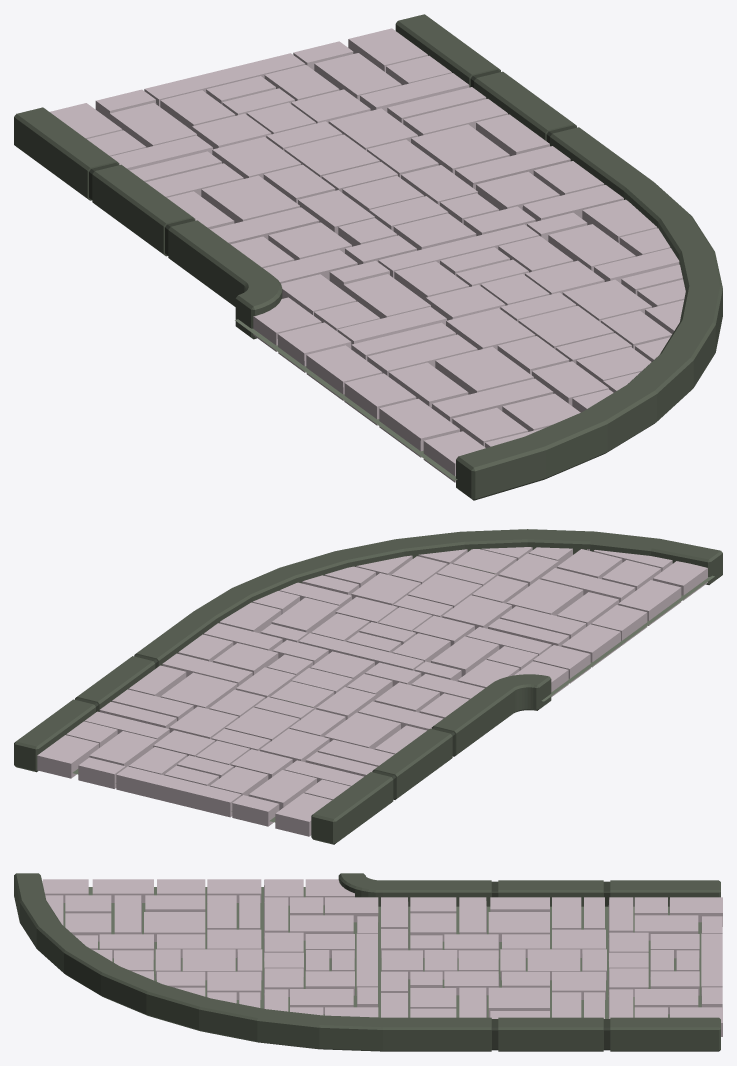
Rendered from SideWalk001.fbx.
3 views of the same model, one above another, from view 1: azimuth 30°, elevation 25°; view 2: azimuth 150°, elevation 25°; view 3: azimuth 270°, elevation 25° (orthographic). The views are drawn at different scales.
Visible parts, largest first — view 1: SideWalk1; view 2: SideWalk1; view 3: SideWalk1.
Boxes of the visible parts, box(x1,y1,x2,y2) form: SideWalk1: box(14, 14, 722, 500); SideWalk1: box(14, 529, 722, 844); SideWalk1: box(14, 873, 722, 1051).
Size of the model in its own units: 327 by 23.71 by 625.
1 material, 1 textured.
